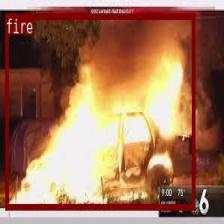fire: (6, 12, 194, 209)
